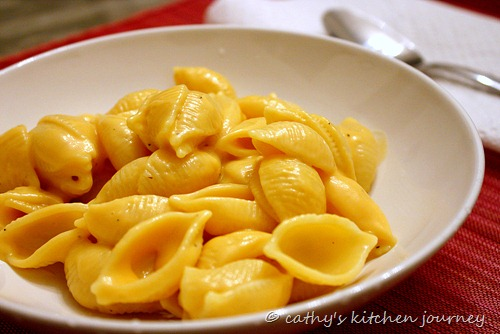macncheese: (1, 65, 400, 319)
